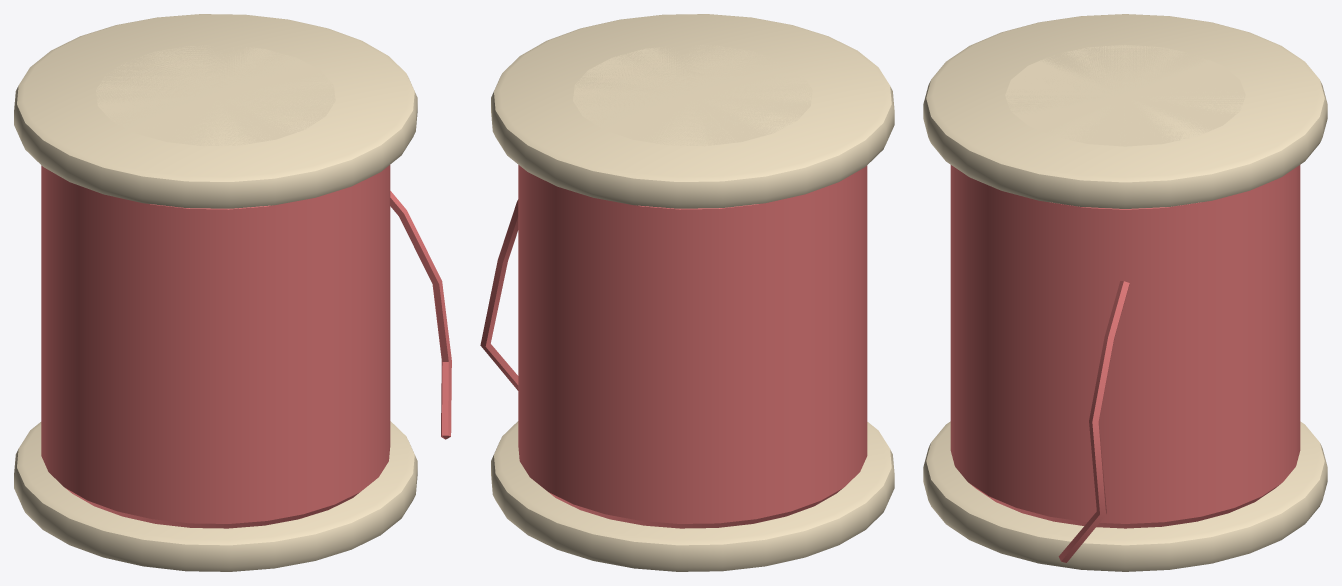
The model's file is spool.glb.
The picture shows the model from 3 angles, left to right: view 1: azimuth 30°, elevation 25°; view 2: azimuth 150°, elevation 25°; view 3: azimuth 270°, elevation 25°; orthographic projection.
Visible parts, largest first — view 1: spool; view 2: spool; view 3: spool.
Boxes of the visible parts, x1,y1,x2,y2 form: spool: [14, 14, 451, 571]; spool: [480, 14, 894, 571]; spool: [923, 14, 1327, 571].
Bounding box in the file's own units: 0.0591 × 0.056 × 0.052.
